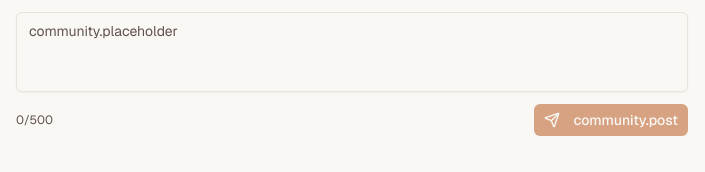
Scenario: CommunityPostForm › enables submit when content is entered
Type "Hello community!" into the text box at coordinates (352, 52), box [16,12,688,92]
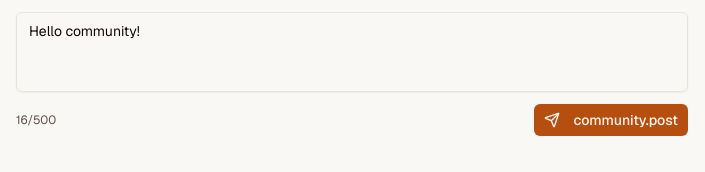
Check: the button is enabled, box [534,104,688,136]
